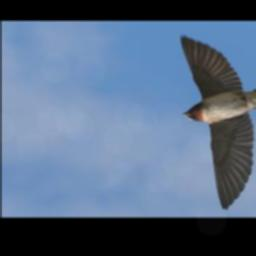Swallow: (179, 36, 256, 211)
